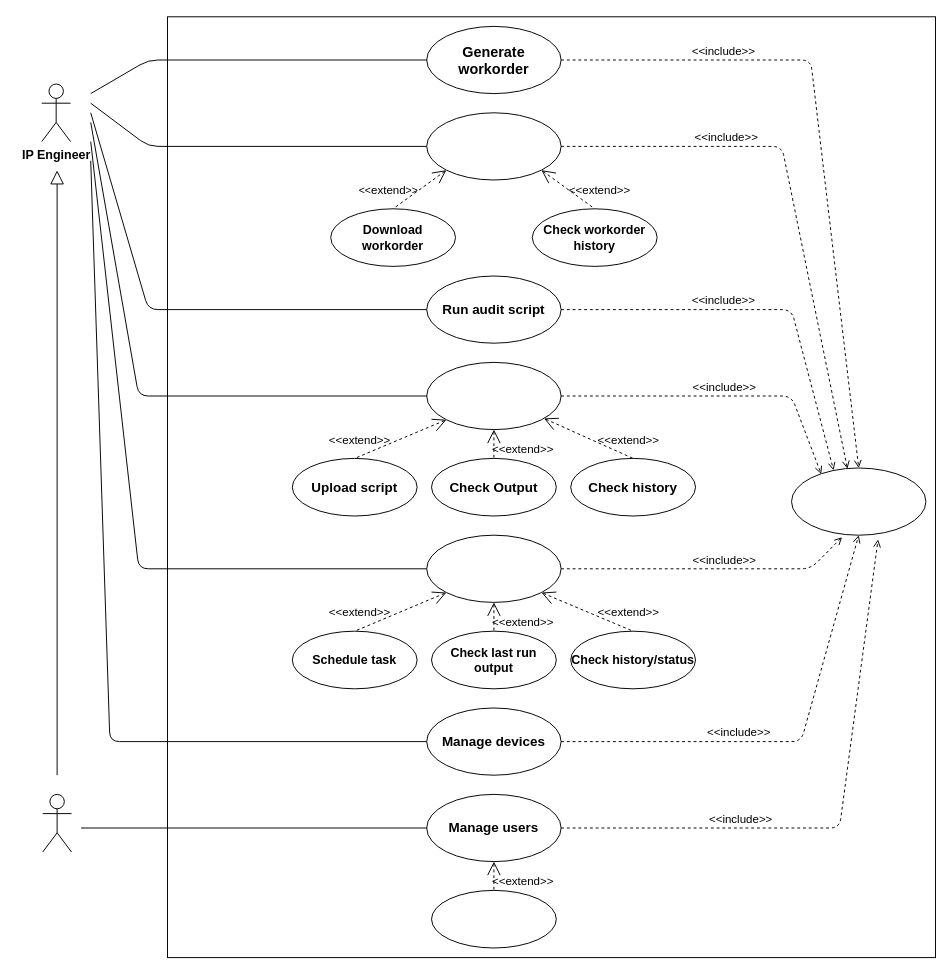
This 952x974 diagram has some shape labels left out. Each missing label, with the centre of its shape:
"Administrator" belongs at pixel 57 822.
"Login" belongs at pixel 858 501.
"Manage audit scripts" belongs at pixel 493 395.
"Manage permissions" belongs at pixel 493 918.
"Manage tasks" belongs at pixel 493 568.
"Manage workorder" belongs at pixel 493 146.
